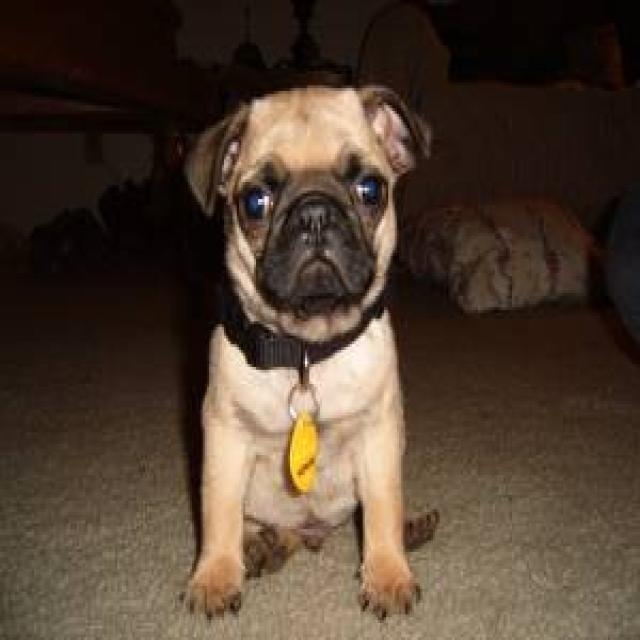dog-pug: (175, 68, 446, 631)
